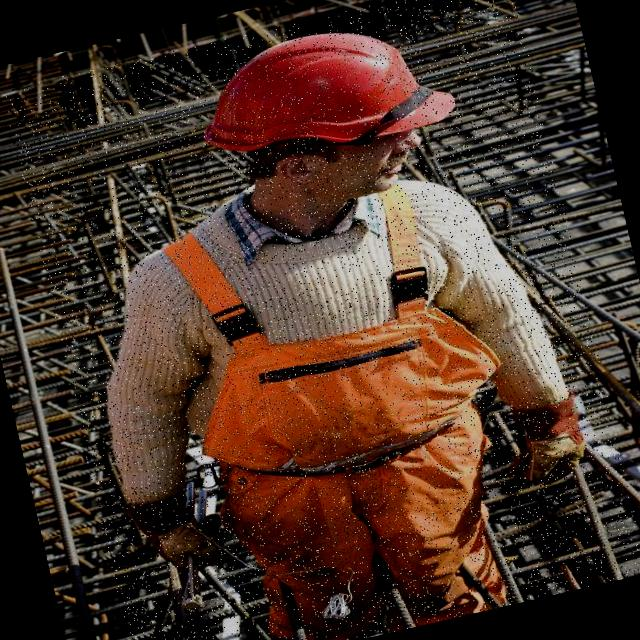gloves: (120, 476, 240, 591), (502, 389, 596, 490)
vest: (150, 168, 512, 499)
